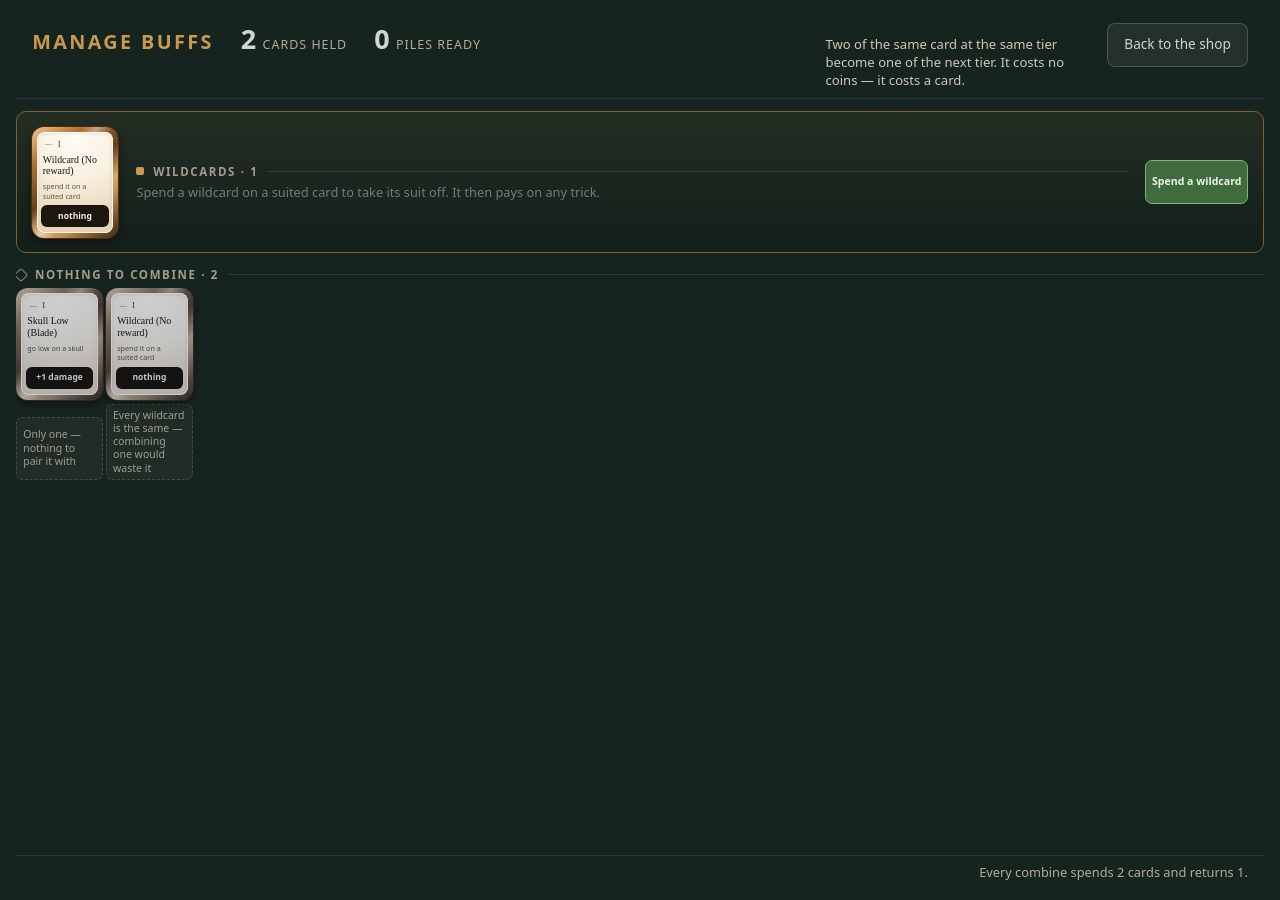
Test case: leaving the wildcard target mode › offers a cancel control even when nothing can be made wild
Click the button "Spend a wildcard" at (1197, 182), box [1145, 160, 1248, 204]
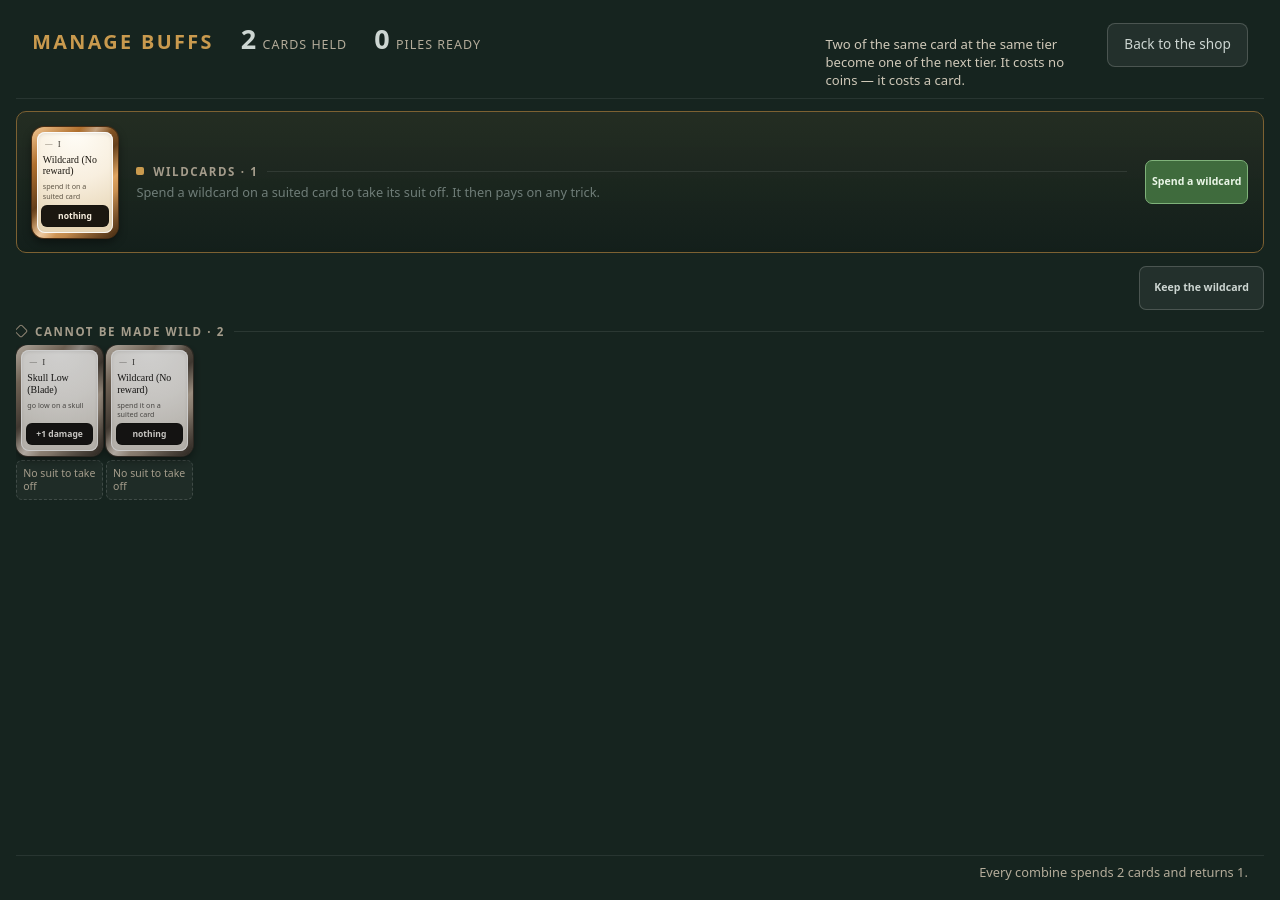
Now the list named "Cannot be made wild" is shown, box [16, 345, 193, 500]
Now the button "Keep the wildcard" is shown, box [1139, 266, 1264, 310]
